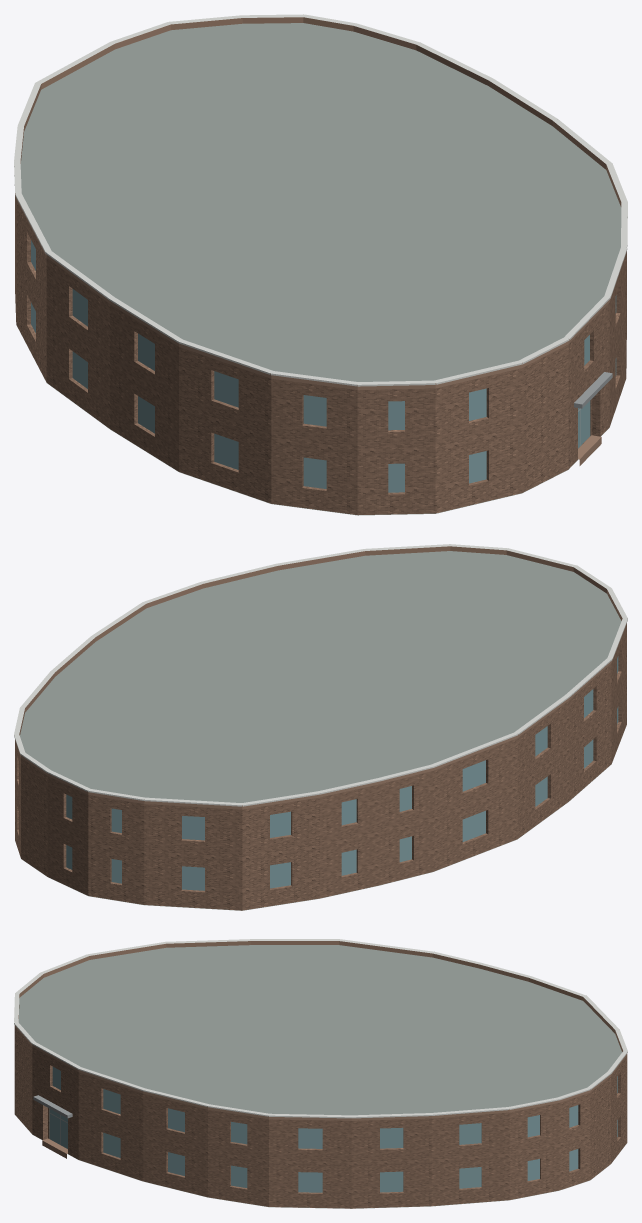
3 renders of one model, top to bottom at view 1: azimuth 30°, elevation 25°; view 2: azimuth 150°, elevation 25°; view 3: azimuth 270°, elevation 25°, orthographic. The views are drawn at different scales.
Visible parts, largest first — view 1: gym__roof, gym__wall, gym__trim, gym__glass, gym__parapet; view 2: gym__roof, gym__wall, gym__glass, gym__trim, gym__parapet; view 3: gym__roof, gym__wall, gym__glass, gym__parapet, gym__trim.
Boxes of the visible parts, box(x1,y1,x2,y2) form: gym__roof: box(16, 23, 625, 515); gym__wall: box(15, 193, 626, 515); gym__trim: box(14, 14, 627, 386); gym__glass: box(31, 240, 616, 492); gym__parapet: box(16, 17, 626, 390); gym__roof: box(20, 551, 621, 910); gym__wall: box(15, 624, 626, 910); gym__glass: box(66, 656, 618, 890); gym__trim: box(14, 544, 627, 806); gym__parapet: box(15, 546, 626, 809); gym__roof: box(15, 945, 624, 1208); gym__wall: box(14, 1027, 627, 1208); gym__glass: box(49, 1066, 617, 1192); gym__parapet: box(14, 941, 627, 1120); gym__trim: box(14, 939, 627, 1118).
Bounding box in the file's own units: 33.14 × 8.35 × 48.27.
9 materials, 1 textured.
